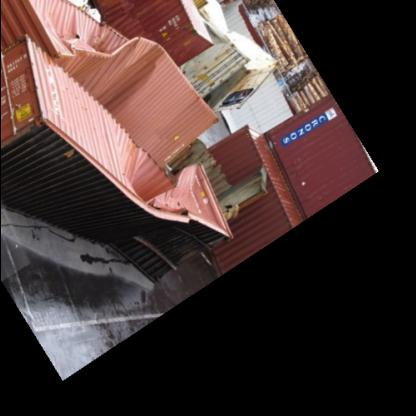Damage: (27, 8, 173, 90), (116, 146, 222, 243)
